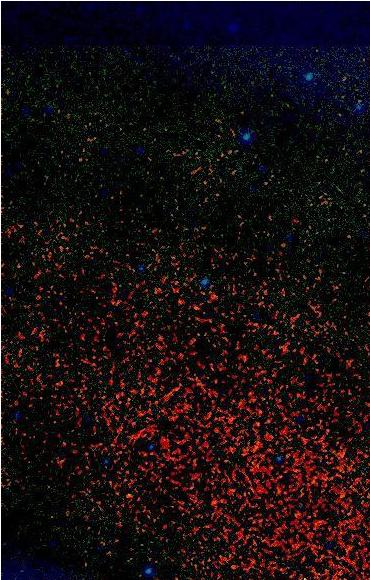star: (117, 477, 147, 507)
